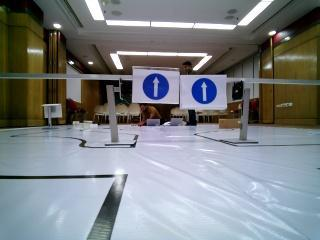straight: (133, 66, 179, 104), (183, 73, 225, 113)
